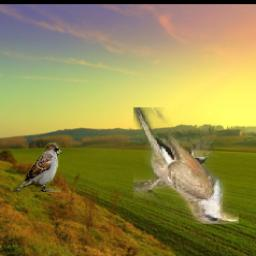Cuckoo: (133, 108, 239, 225)
Sparrow: (14, 142, 62, 192)
